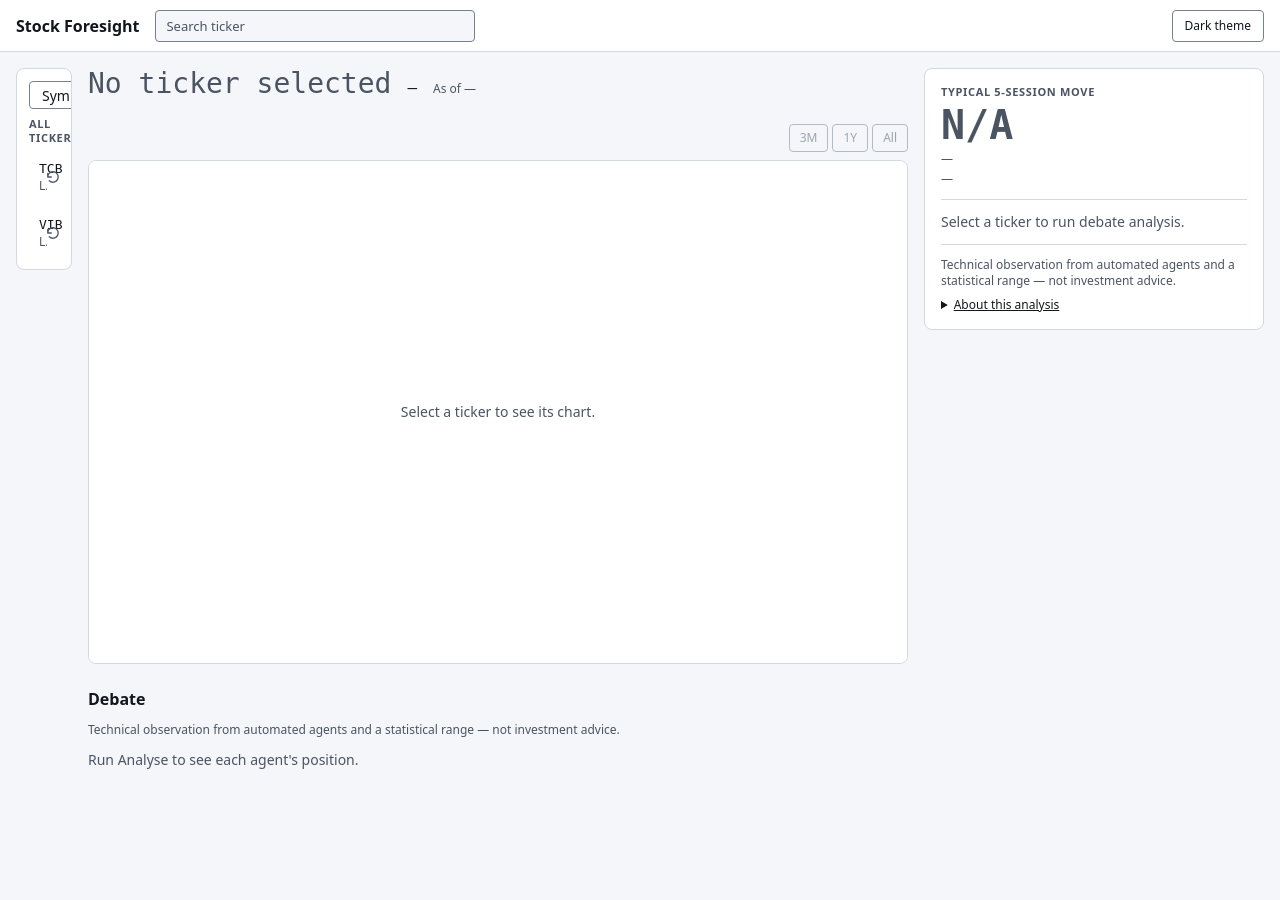
Test: landmarks and names › exposes header, nav, main and aside landmarks and exactly one h1
Type "tcb" into the field labelled "Search ticker" at (316,26), box [156,10,476,42]
Then press Enter
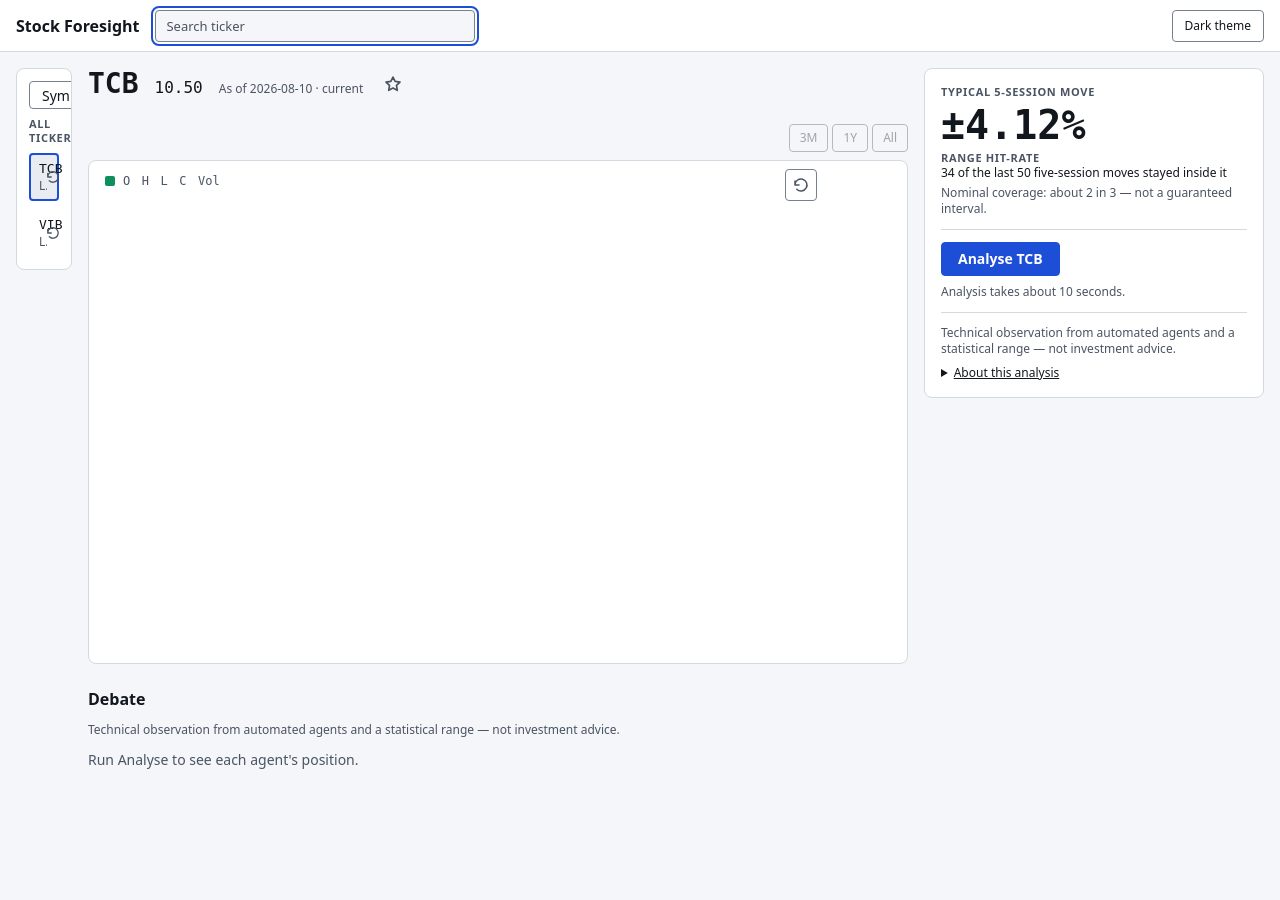
Expected: the header is shown, [0,0,1279,52]
Expected: the heading "TCB" is shown, [88,68,139,100]
